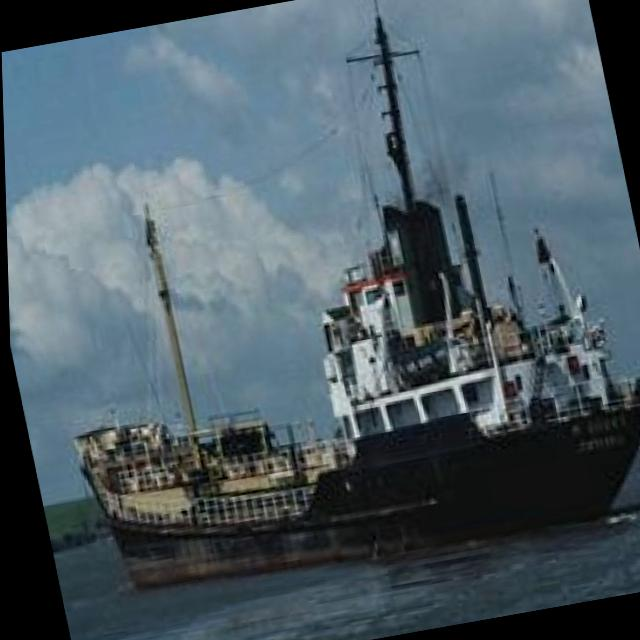ship2: (69, 15, 640, 595)
